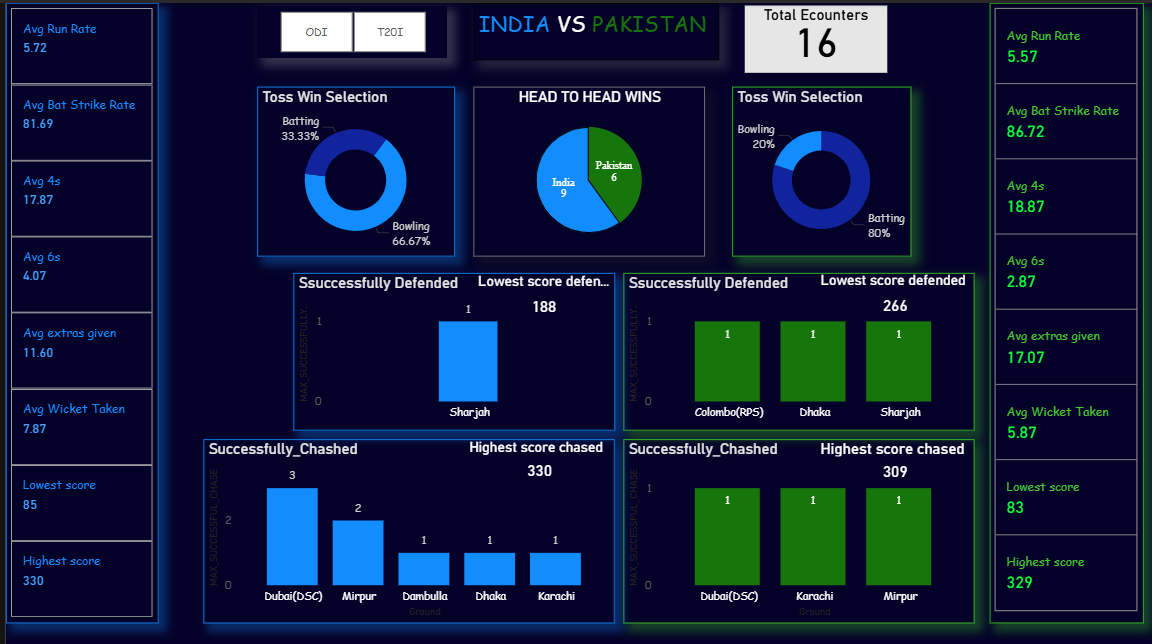

This screenshot's page, from the dashboard's own definition file:
{"tool":"powerbi","page":{"name":"INDIA VS PAKISTAN","canvas":[1280,720],"ordinal":2},"visuals":[{"type":"textbox","box":[522.9,0,274.3,64.3],"z":0},{"type":"cardVisual","fields":{"Data":["Avg(asiacup.Run Rate)","Avg(asiacup.Avg Bat Strike Rate)","Avg(asiacup.Fours)","Avg(asiacup.Sixes)","Avg(asiacup.Given Extras)","Avg(asiacup.Wicket Taken)","Min(asiacup.Run Scored)","Max(asiacup.Run Scored)"]},"box":[0,0,170.3,692.5],"z":1000},{"type":"cardVisual","fields":{"Data":["Avg(asiacup.Run Rate)","Avg(asiacup.Avg Bat Strike Rate)","Avg(asiacup.Fours)","Avg(asiacup.Sixes)","Avg(asiacup.Given Extras)","Avg(asiacup.Wicket Taken)","Min(asiacup.Run Scored)","Max(asiacup.Run Scored)1"]},"box":[1098.8,0,171.7,692.5],"z":2000},{"type":"donutChart","title":"Toss Win Selection","fields":{"Y":["CountNonNull(asiacup.Selection)"],"Category":["asiacup.Selection"]},"box":[280.6,93.5,220.6,189.9],"z":3000},{"type":"columnChart","title":"Successfully_Chashed ","fields":{"Category":["asiacup.Ground"],"Series":["asiacup.Result"],"Y":["asiacup.MAX_SUCCESSFUL_CHASE"]},"box":[689.7,487.3,392.3,205.2],"z":4000},{"type":"slicer","fields":{"Values":["asiacup.Format"]},"box":[280.6,2.8,212.2,58.6],"z":5000},{"type":"card","title":"Total Ecounters","fields":{"Values":["CountNonNull(asiacup.Team)"]},"box":[825.1,2.8,159.2,75.4],"z":6000},{"type":"pieChart","title":"HEAD TO HEAD WINS","fields":{"Y":["asiacup.total loses","asiacup.total wins"]},"box":[522.2,93.5,258.3,189.9],"z":7000},{"type":"columnChart","title":"Ssuccessfully Defended","fields":{"Category":["asiacup.Ground"],"Series":["asiacup.Result"],"Y":["asiacup.MAX_SUCCESSFULLY_DEFENDED"]},"box":[689.7,301.6,392.3,175.9],"z":8000},{"type":"columnChart","title":"Successfully_Chashed ","fields":{"Category":["asiacup.Ground"],"Y":["asiacup.MAX_SUCCESSFUL_CHASE"]},"box":[220.6,487.3,459.3,205.2],"z":9000},{"type":"columnChart","title":"Ssuccessfully Defended","fields":{"Category":["asiacup.Ground"],"Y":["asiacup.MAX_SUCCESSFULLY_DEFENDED"]},"box":[321.1,301.6,358.8,175.9],"z":10000},{"type":"donutChart","title":"Toss Win Selection","fields":{"Y":["CountNonNull(asiacup.Selection)"],"Category":["asiacup.Selection"]},"box":[811.2,93.5,199.7,189.9],"z":11000},{"type":"card","title":"Highest score chased","fields":{"Values":["Max(asiacup.Run Scored)"]},"box":[512.4,487.3,167.5,54.5],"z":12000},{"type":"card","title":"Lowest score defended","fields":{"Values":["Min(asiacup.Run Scored)"]},"box":[522.2,301.6,157.8,58.6],"z":13000},{"type":"card","title":"Lowest score defended","fields":{"Values":["Min(asiacup.Run Scored)"]},"box":[904.7,300.2,177.3,60],"z":14000},{"type":"card","title":"Highest score chased","fields":{"Values":["Max(asiacup.Run Scored)"]},"box":[904.7,487.3,177.3,54.5],"z":15000}]}

Visuals, with their boxes in screenshot pixels (x1, y1, x2, y2), scaled from the page's 1280x720 canvas onto the 1152x644 screenshot:
textbox: 471:0:717:58
cardVisual - Avg(asiacup.Run Rate) x Avg(asiacup.Avg Bat Strike Rate): 0:0:153:619
cardVisual - Avg(asiacup.Run Rate) x Avg(asiacup.Avg Bat Strike Rate): 989:0:1143:619
"Toss Win Selection" donutChart: 253:84:451:253
"Successfully_Chashed " columnChart: 621:436:974:619
slicer - asiacup.Format: 253:3:444:55
"Total Ecounters" card: 743:3:886:70
"HEAD TO HEAD WINS" pieChart: 470:84:702:253
"Ssuccessfully Defended" columnChart: 621:270:974:427
"Successfully_Chashed " columnChart: 199:436:612:619
"Ssuccessfully Defended" columnChart: 289:270:612:427
"Toss Win Selection" donutChart: 730:84:910:253
"Highest score chased" card: 461:436:612:485
"Lowest score defended" card: 470:270:612:322
"Lowest score defended" card: 814:269:974:322
"Highest score chased" card: 814:436:974:485
